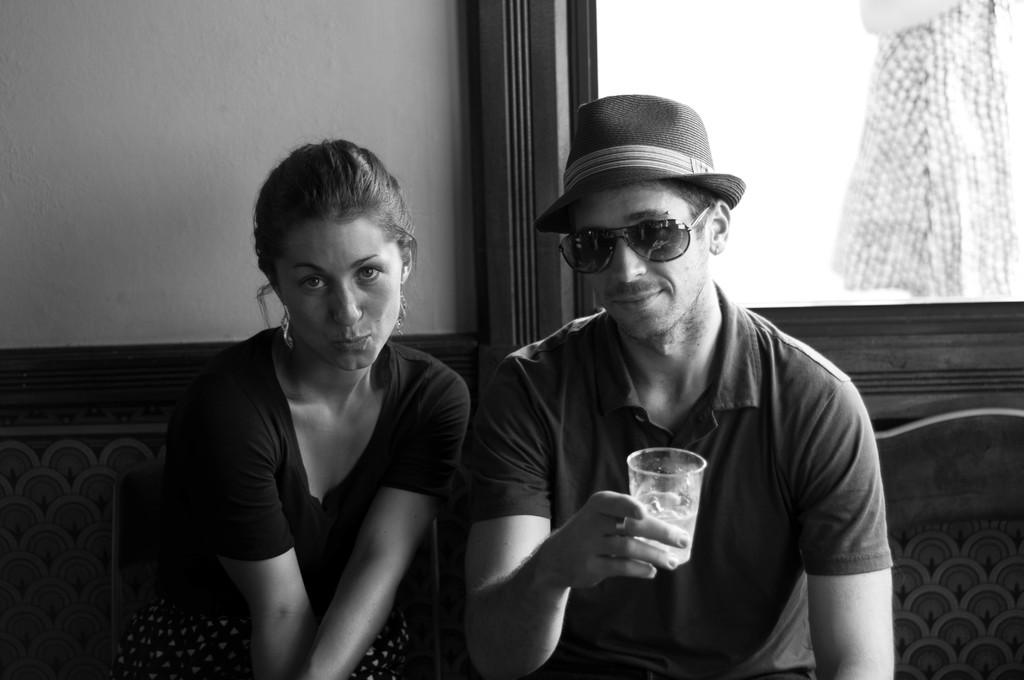Hat: (536, 94, 744, 226)
